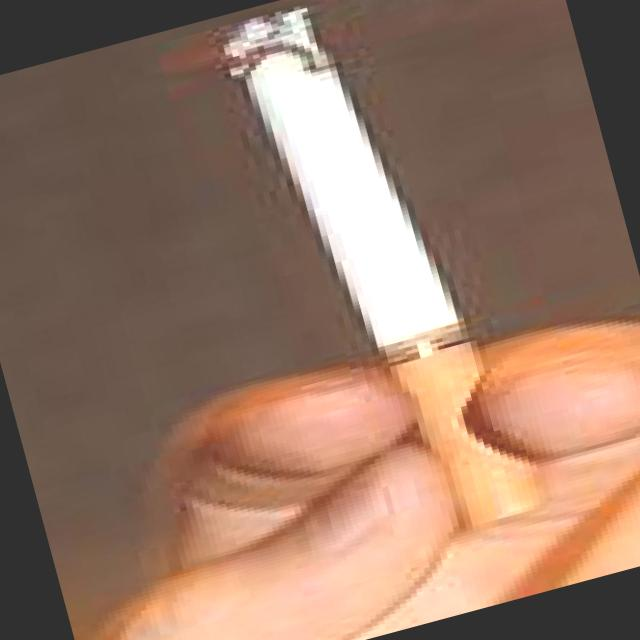cigarette: (222, 0, 574, 561)
